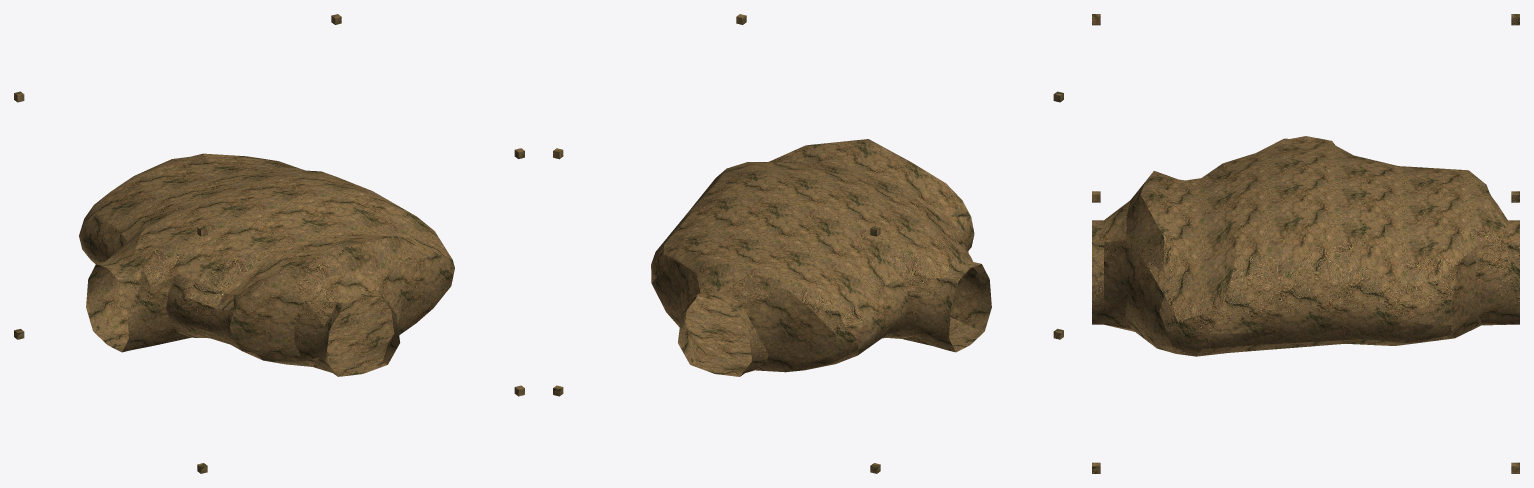
The model's file is lba_3a.glb.
3 renders of one model, left to right at view 1: azimuth 30°, elevation 25°; view 2: azimuth 150°, elevation 25°; view 3: azimuth 270°, elevation 25°, orthographic. The views are drawn at different scales.
Parts seen in each view (by area): view 1: lba_3a-col; view 2: lba_3a-col; view 3: lba_3a-col.
Boxes of the visible parts, x1=… form: lba_3a-col: x1=14, y1=14, x2=524, y2=473; lba_3a-col: x1=553, y1=14, x2=1063, y2=473; lba_3a-col: x1=1092, y1=14, x2=1519, y2=473.
Bounding box in the file's own units: 15 × 10.8 × 15.
Materials: 1 (1 with a texture image).
